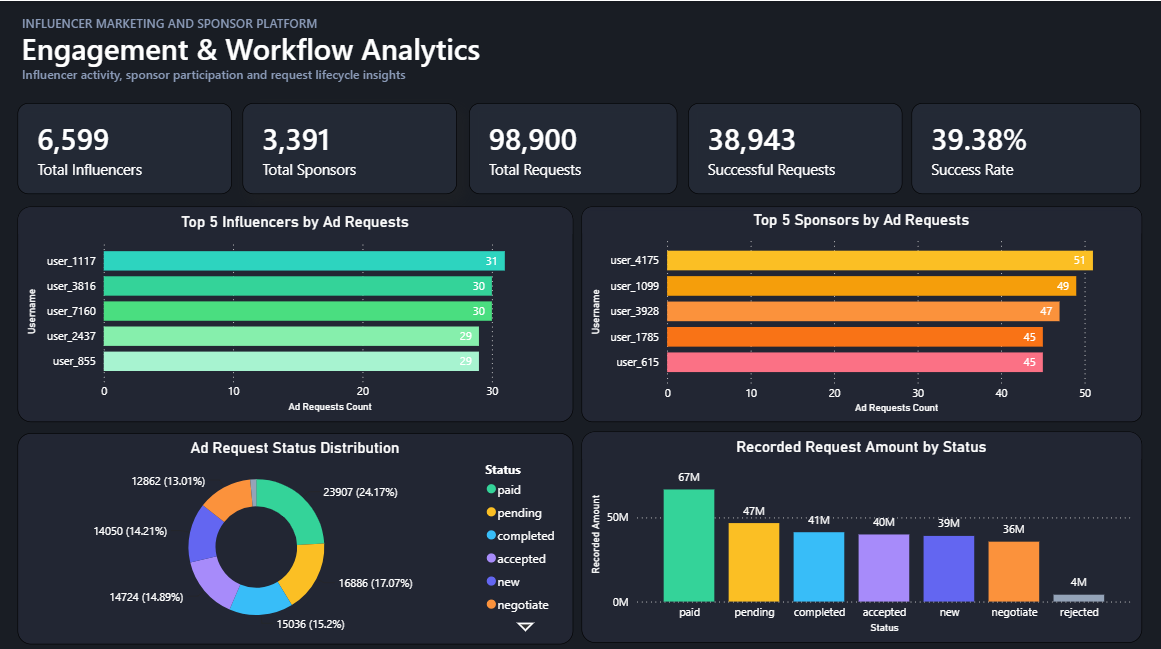

This screenshot's page, from the dashboard's own definition file:
{"tool":"powerbi","page":{"name":"Engagement & Workflow Analytics","canvas":[1280,720],"ordinal":3},"visuals":[{"type":"textbox","box":[0,25,555,53.3],"z":0},{"type":"textbox","box":[21.7,10,376.7,28.3],"z":1000},{"type":"textbox","box":[21.7,66.7,495,63.3],"z":2000},{"type":"cardVisual","fields":{"Data":["Measure.Total Influencers"]},"box":[21.7,111.7,235,100],"z":3000},{"type":"cardVisual","fields":{"Data":["Measure.Total Sponsors"]},"box":[268.3,111.7,235,100],"z":4000},{"type":"cardVisual","fields":{"Data":["Measure.Successful Requests"]},"box":[756.7,111.7,235,100],"z":5000},{"type":"cardVisual","fields":{"Data":["Measure.Total Requests"]},"box":[516.7,111.7,228.3,100],"z":6000},{"type":"cardVisual","fields":{"Data":["Measure.Success Rate"]},"box":[1003.3,111.7,251.7,100],"z":7000},{"type":"clusteredBarChart","title":"Top 5 Sponsors by Ad Requests","fields":{"Category":["dim_user.username"],"Y":["Measure.Sponsor Request Count"]},"box":[640,225,615,236.7],"z":8000},{"type":"donutChart","title":"Ad Request Status Distribution","fields":{"Category":["fact_ad_request.status"],"Y":["Measure.Total Requests"]},"box":[21.7,473.3,610,231.7],"z":9000},{"type":"clusteredBarChart","title":"Top 5 Influencers by Ad Requests","fields":{"Category":["dim_user.username"],"Y":["Measure.Influencer Request Count"]},"box":[21.7,225,610,236.7],"z":10000},{"type":"clusteredColumnChart","title":"Recorded Request Amount by Status","fields":{"Y":["Measure.Total Payments All Status Combined"],"Category":["fact_ad_request.status"]},"box":[640,473,615,232],"z":11000}]}

Visuals, with their boxes in screenshot pixels (x1, y1, x2, y2), scaled from the page's 1280x720 canvas onto the 1161x649 screenshot:
textbox: <bbox>0, 23, 503, 71</bbox>
textbox: <bbox>20, 9, 361, 35</bbox>
textbox: <bbox>20, 60, 469, 117</bbox>
cardVisual - Measure.Total Influencers: <bbox>20, 101, 233, 191</bbox>
cardVisual - Measure.Total Sponsors: <bbox>243, 101, 457, 191</bbox>
cardVisual - Measure.Successful Requests: <bbox>686, 101, 900, 191</bbox>
cardVisual - Measure.Total Requests: <bbox>469, 101, 676, 191</bbox>
cardVisual - Measure.Success Rate: <bbox>910, 101, 1138, 191</bbox>
"Top 5 Sponsors by Ad Requests" clusteredBarChart: <bbox>580, 203, 1138, 416</bbox>
"Ad Request Status Distribution" donutChart: <bbox>20, 427, 573, 635</bbox>
"Top 5 Influencers by Ad Requests" clusteredBarChart: <bbox>20, 203, 573, 416</bbox>
"Recorded Request Amount by Status" clusteredColumnChart: <bbox>580, 426, 1138, 635</bbox>
